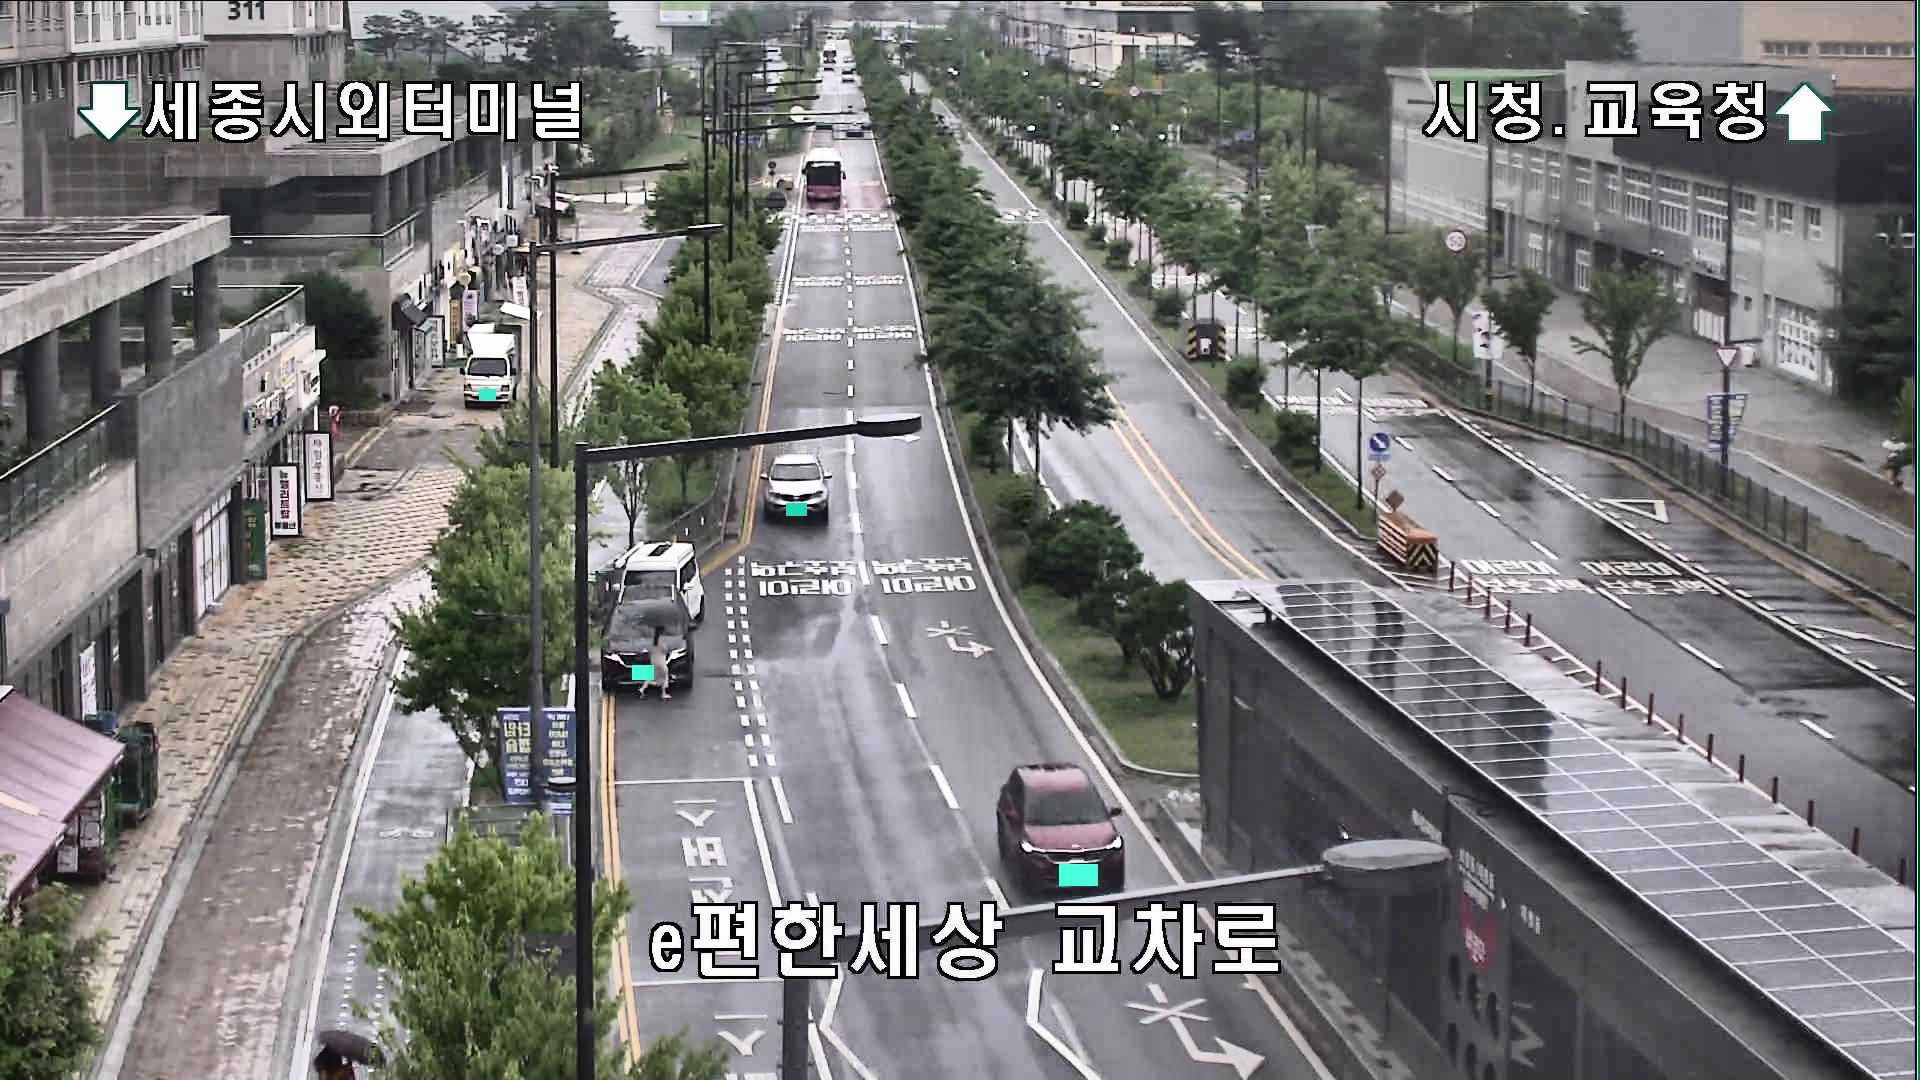um_jaywalk: (636, 604, 695, 702)
